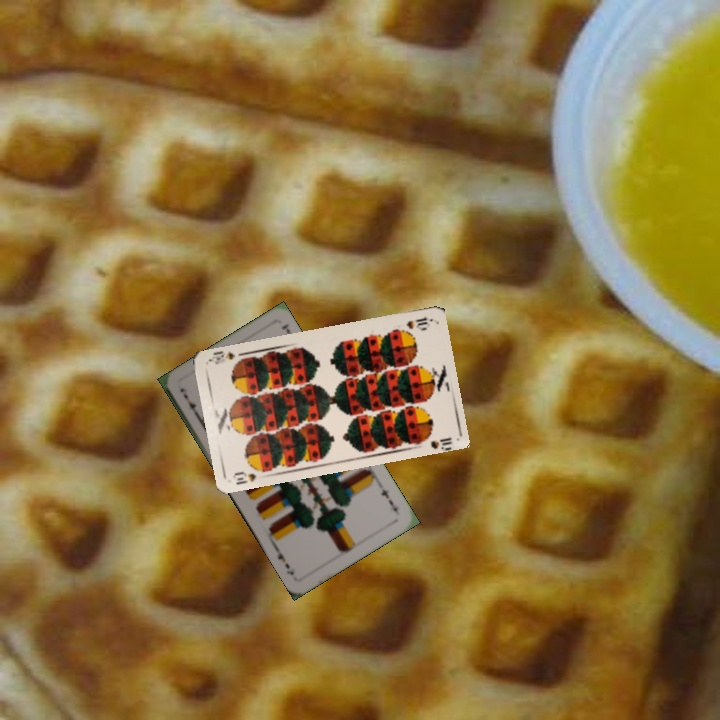E7: (377, 484, 402, 515), (179, 389, 202, 420)
S10: (229, 464, 268, 487), (402, 313, 432, 332)
